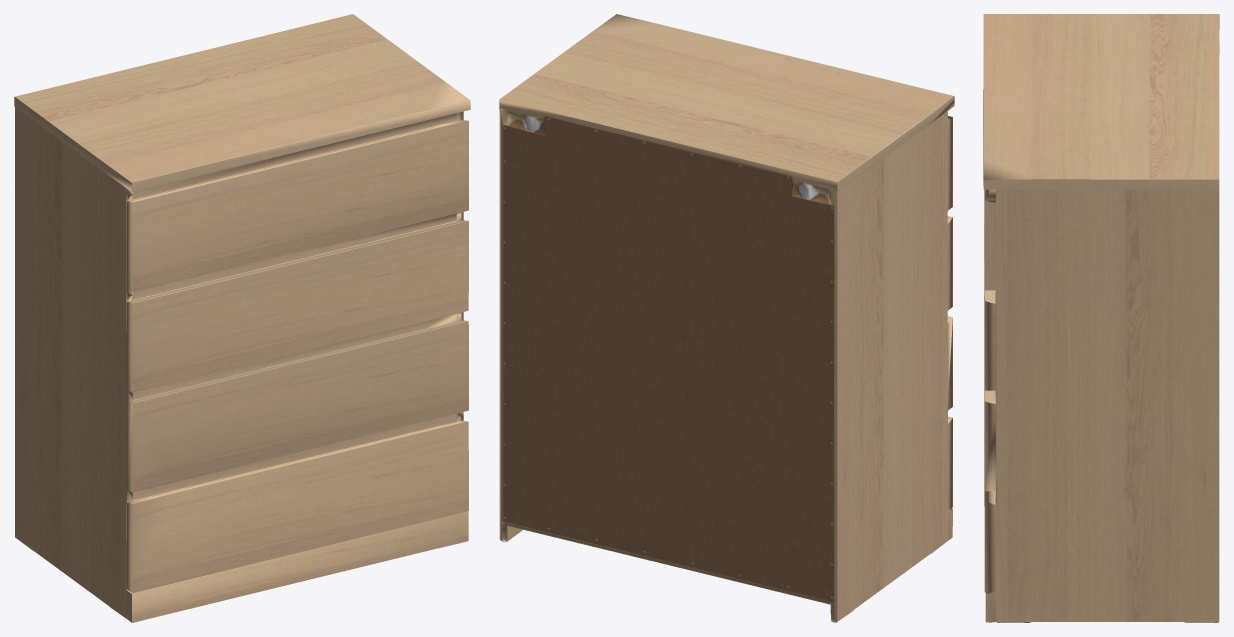
The model's file is item.glb.
The picture shows the model from 3 angles, left to right: view 1: azimuth 30°, elevation 25°; view 2: azimuth 150°, elevation 25°; view 3: azimuth 270°, elevation 25°; orthographic projection.
Parts seen in each view (by area): view 1: ProcessedMeshNode; view 2: ProcessedMeshNode; view 3: ProcessedMeshNode.
Boxes of the visible parts, <box> form: ProcessedMeshNode: <box>14,14,470,622</box>; ProcessedMeshNode: <box>499,14,954,622</box>; ProcessedMeshNode: <box>983,14,1219,622</box>.
Size of the model in its own units: 0.8033 by 1 by 0.4828.
Materials: 1 (1 with a texture image).
